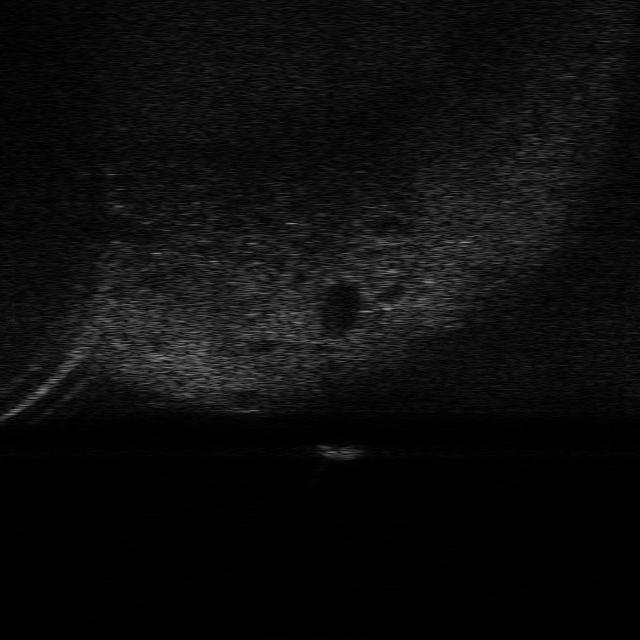cube: (318, 442, 370, 462)
